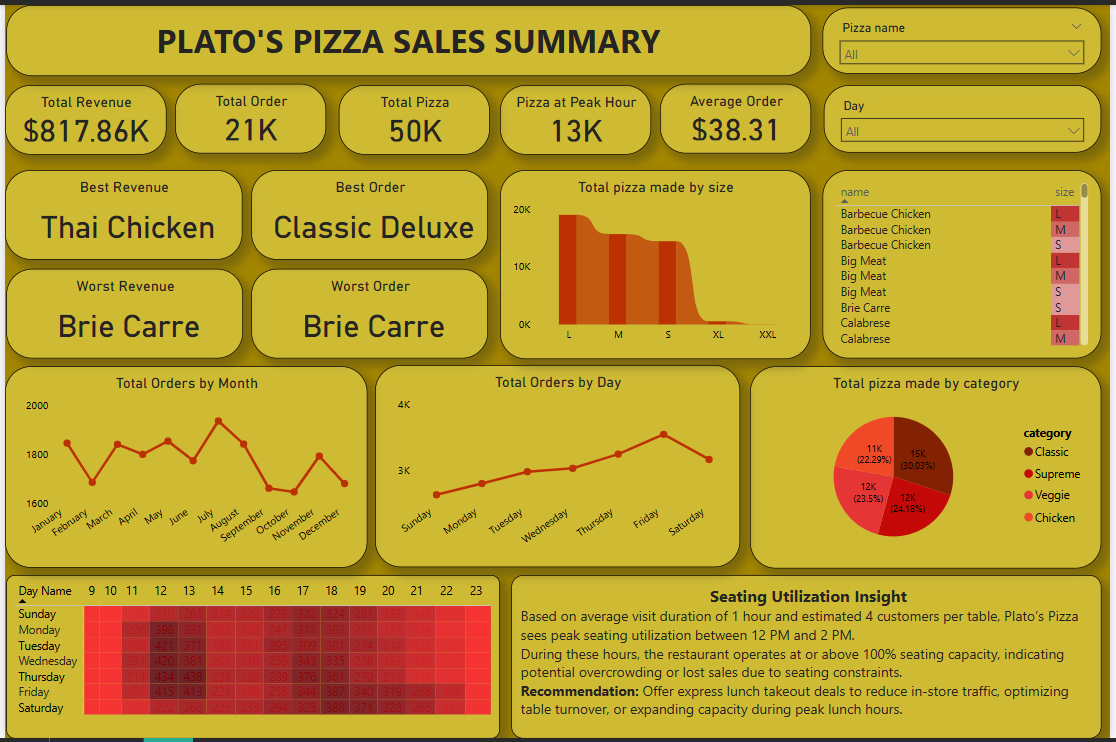

This screenshot's page, from the dashboard's own definition file:
{"tool":"powerbi","page":{"name":"Dashboard","canvas":[1280,850],"ordinal":0},"visuals":[{"type":"pivotTable","fields":{"Rows":["orders.Day Name"],"Columns":["orders.Hour"],"Values":["orders.Total orders"]},"box":[1.4,660.5,572.2,189.8],"z":0},{"type":"card","title":"Pizza at Peak Hour","fields":{"Values":["orders.Pizzas at Peak"]},"box":[573.6,92.7,175.3,81.1],"z":1000},{"type":"card","title":"Average Order","fields":{"Values":["order_details.Average-order value"]},"box":[759,91.3,175.3,81.1],"z":2000},{"type":"card","title":"Best Revenue","fields":{"Values":["Min(pizza_types.name)"]},"box":[0,190.9,275,104.3],"z":3000},{"type":"card","title":"Worst Revenue","fields":{"Values":["Min(pizza_types.name)"]},"box":[1.5,305.5,274.6,104.3],"z":4000},{"type":"card","title":"Best Order","fields":{"Values":["Min(pizza_types.name)"]},"box":[284.9,190.9,274.6,104.3],"z":5000},{"type":"card","title":"Total Revenue","fields":{"Values":["order_details.Total revenue"]},"box":[0,92.7,186.9,81.1],"z":6000},{"type":"card","title":"Total Order","fields":{"Values":["orders.Total orders"]},"box":[197,91.3,175.3,81.1],"z":7000},{"type":"card","title":"Worst Order","fields":{"Values":["Min(pizza_types.name)"]},"box":[284.9,305.5,274.6,104.3],"z":8000},{"type":"card","title":"Total Pizza","fields":{"Values":["order_details.Total pizza made"]},"box":[386.8,92.7,175.3,81.1],"z":9000},{"type":"pieChart","fields":{"Category":["pizza_types.category"],"Y":["order_details.Total pizza made"]},"box":[863.3,418.6,407,234.7],"z":10000},{"type":"lineChart","title":"Total Orders by Month","fields":{"Y":["orders.Total orders"],"Category":["orders.Month Name"]},"box":[0,418.5,420,233.5],"z":11000},{"type":"textbox","box":[586.7,660.5,683.7,189.8],"z":12000},{"type":"textbox","box":[1.5,0,932.5,82.2],"z":14000},{"type":"slicer","fields":{"Values":["pizza_types.name"]},"box":[947.3,2.9,323,76.8],"z":16000},{"type":"slicer","fields":{"Values":["orders.Day Name"]},"box":[948.8,92.7,321.6,78.2],"z":17000},{"type":"tableEx","fields":{"Values":["pizza_types.name","pizzas.size"]},"box":[947.3,191.2,323,218.7],"z":19000},{"type":"lineChart","title":"Total Orders by Day","fields":{"Y":["orders.Total orders"],"Category":["orders.Day Name"]},"box":[428.8,417.2,423,234.7],"z":20000},{"type":"ribbonChart","fields":{"Category":["pizzas.size"],"Y":["order_details.Total pizza made"]},"box":[574.2,190.9,359.8,218.8],"z":21000}]}

Visuals, with their boxes in screenshot pixels (x1, y1, x2, y2), scaled from the page's 1280x850 canvas onto the 1116x742 screenshot:
pivotTable - orders.Day Name x orders.Hour: [1, 577, 500, 741]
"Pizza at Peak Hour" card: [500, 81, 653, 152]
"Average Order" card: [662, 80, 815, 150]
"Best Revenue" card: [0, 167, 240, 258]
"Worst Revenue" card: [1, 267, 241, 358]
"Best Order" card: [248, 167, 488, 258]
"Total Revenue" card: [0, 81, 163, 152]
"Total Order" card: [172, 80, 325, 150]
"Worst Order" card: [248, 267, 488, 358]
"Total Pizza" card: [337, 81, 490, 152]
pieChart - pizza_types.category x order_details.Total pizza made: [753, 365, 1108, 570]
"Total Orders by Month" lineChart: [0, 365, 366, 569]
textbox: [512, 577, 1108, 741]
textbox: [1, 0, 814, 72]
slicer - pizza_types.name: [826, 3, 1108, 70]
slicer - orders.Day Name: [827, 81, 1108, 149]
tableEx - pizza_types.name x pizzas.size: [826, 167, 1108, 358]
"Total Orders by Day" lineChart: [374, 364, 743, 569]
ribbonChart - pizzas.size x order_details.Total pizza made: [501, 167, 814, 358]
